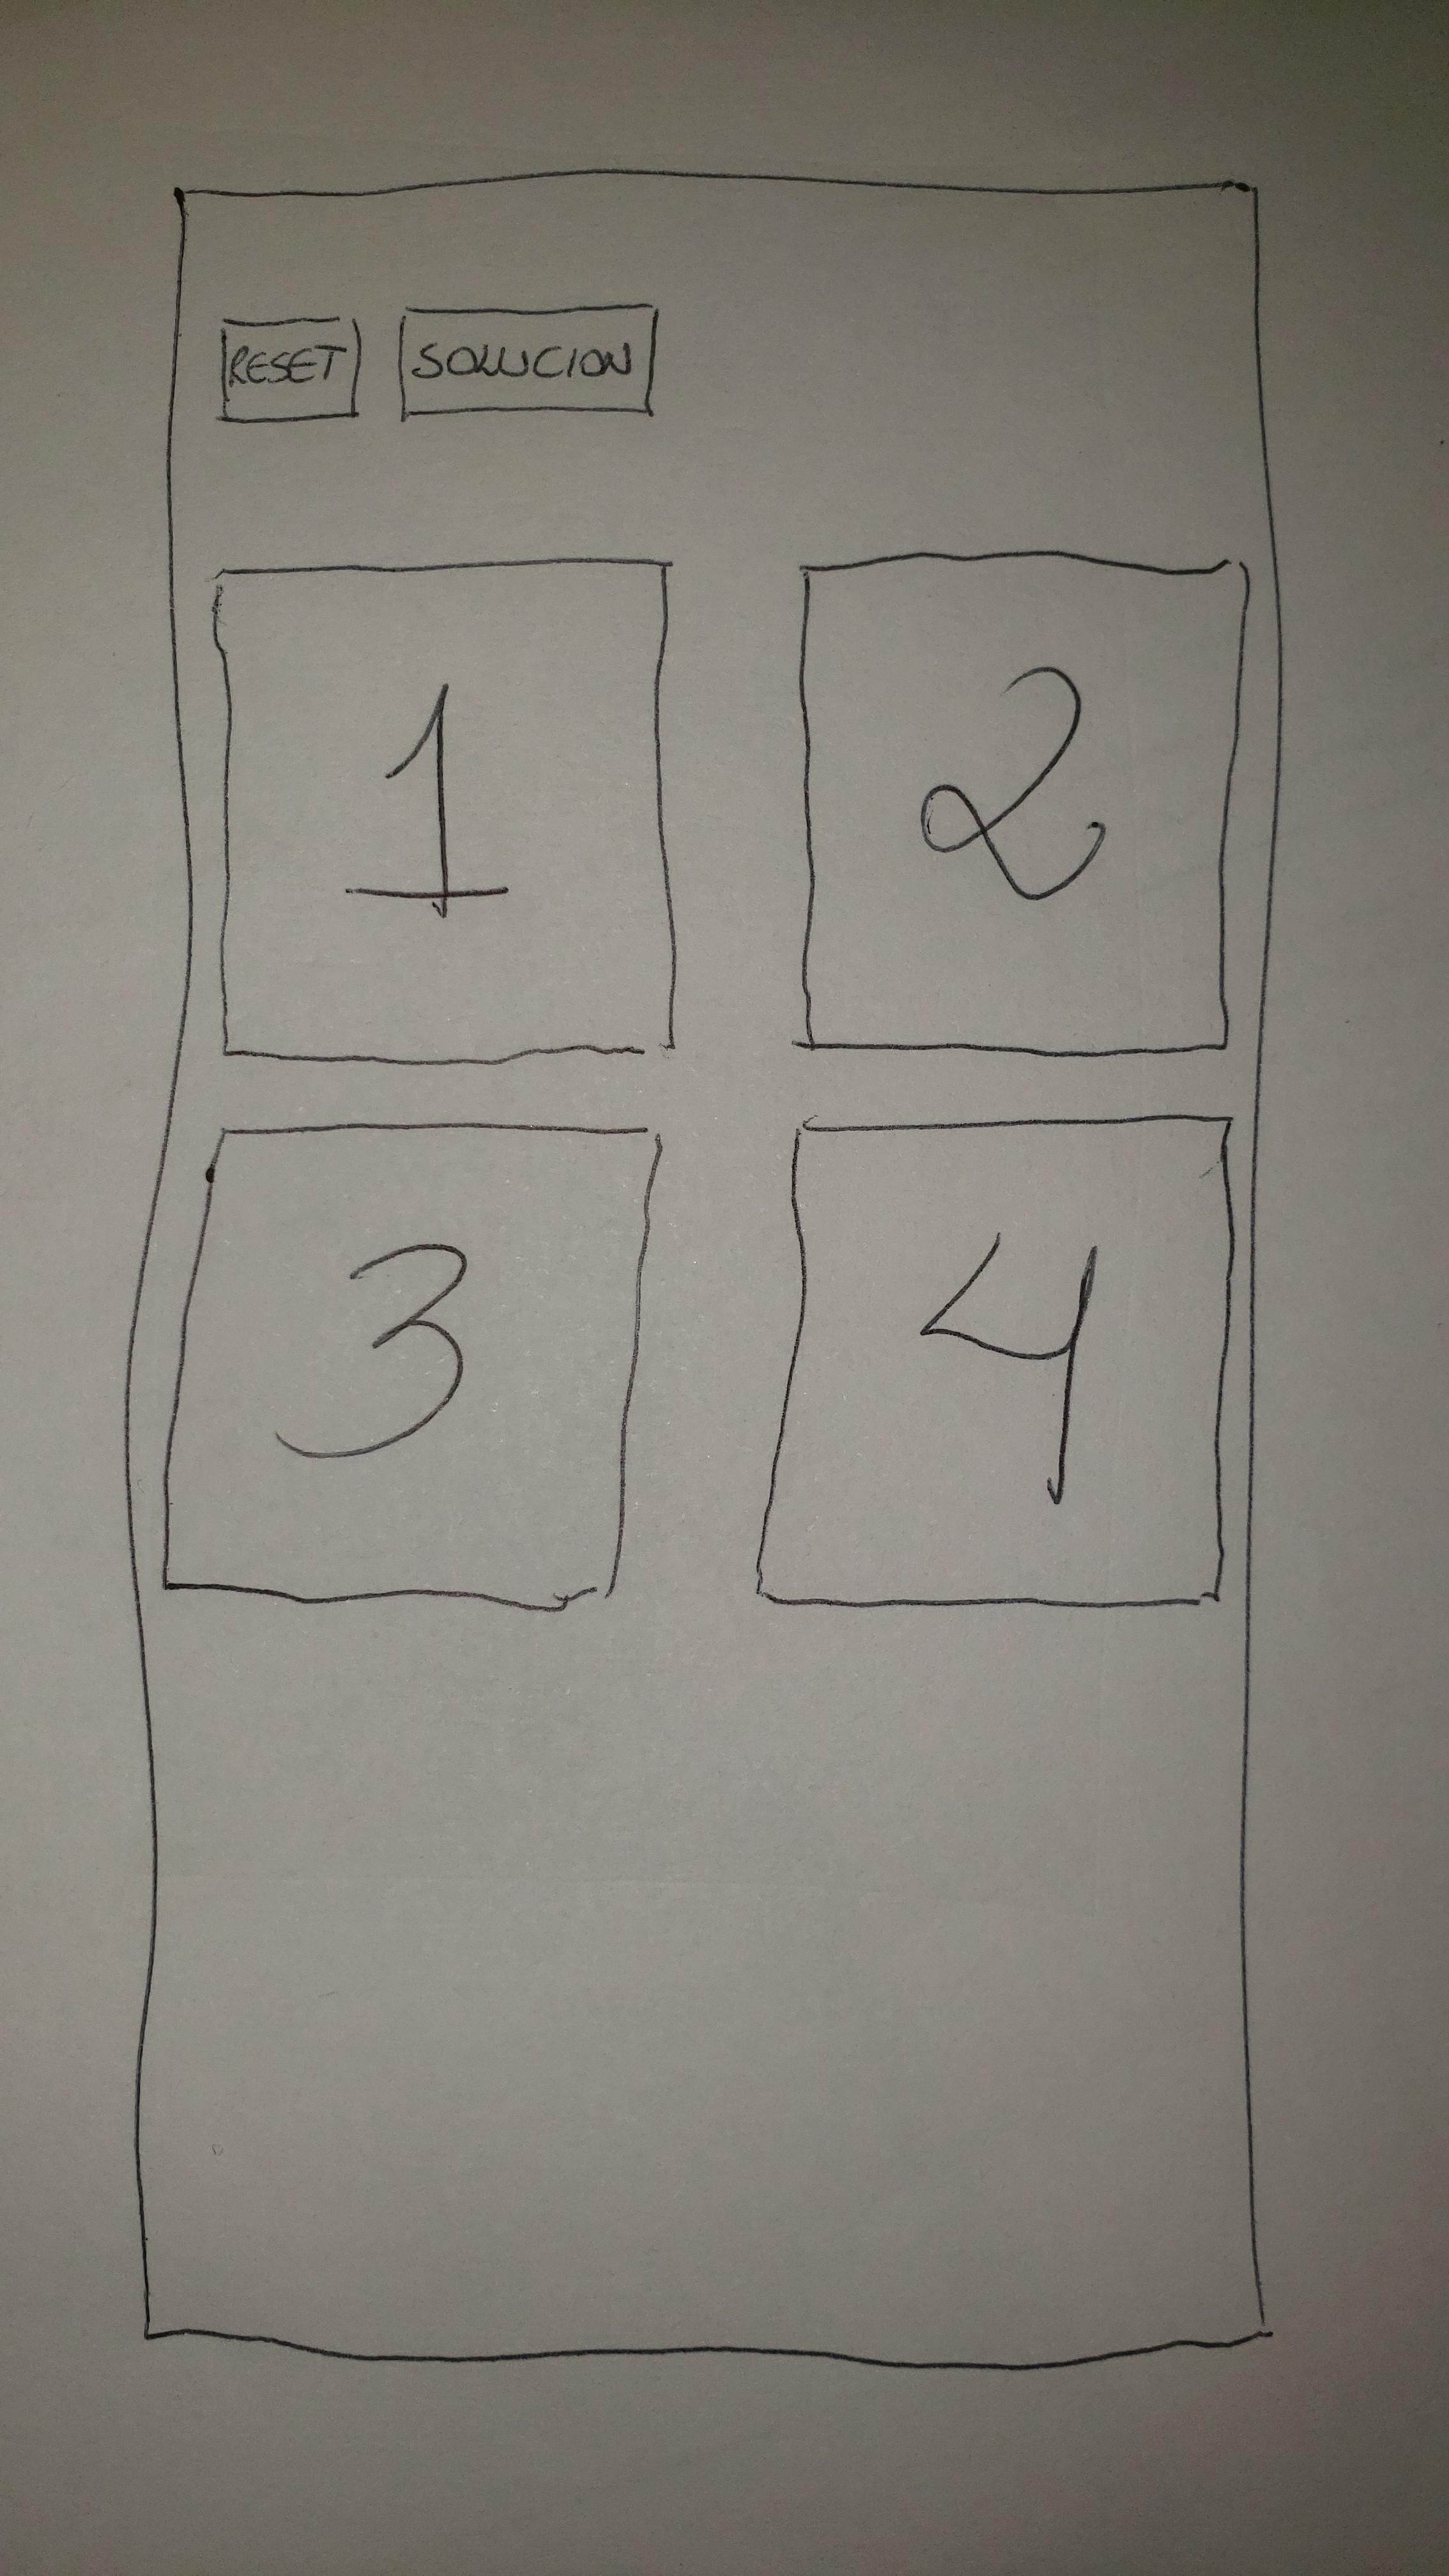Button: (163, 1127, 663, 1610), (214, 556, 678, 1065), (757, 1113, 1233, 1606), (801, 550, 1251, 1056), (398, 304, 658, 419), (218, 315, 361, 421)
Screen: (127, 170, 1281, 2365)
